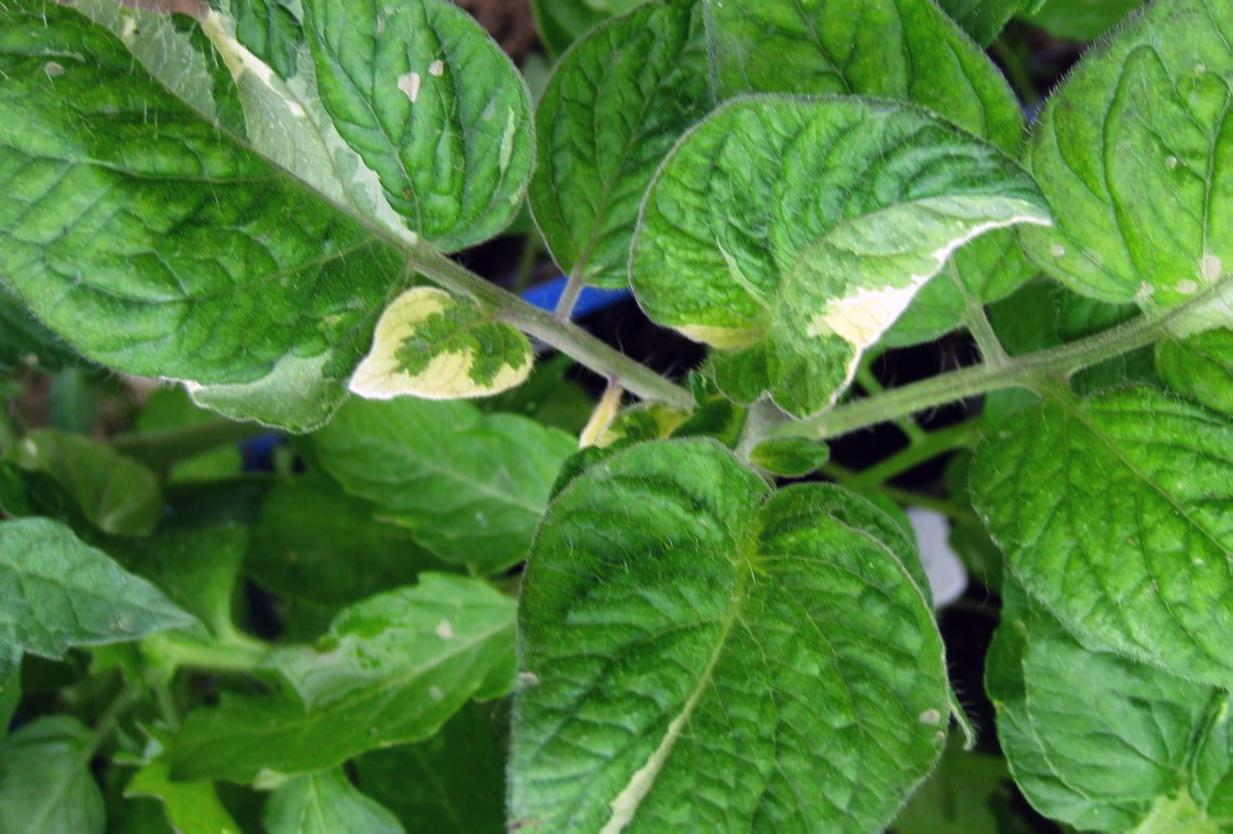Tomato leaf: (499, 426, 960, 834), (979, 407, 1233, 698), (0, 477, 205, 688)
